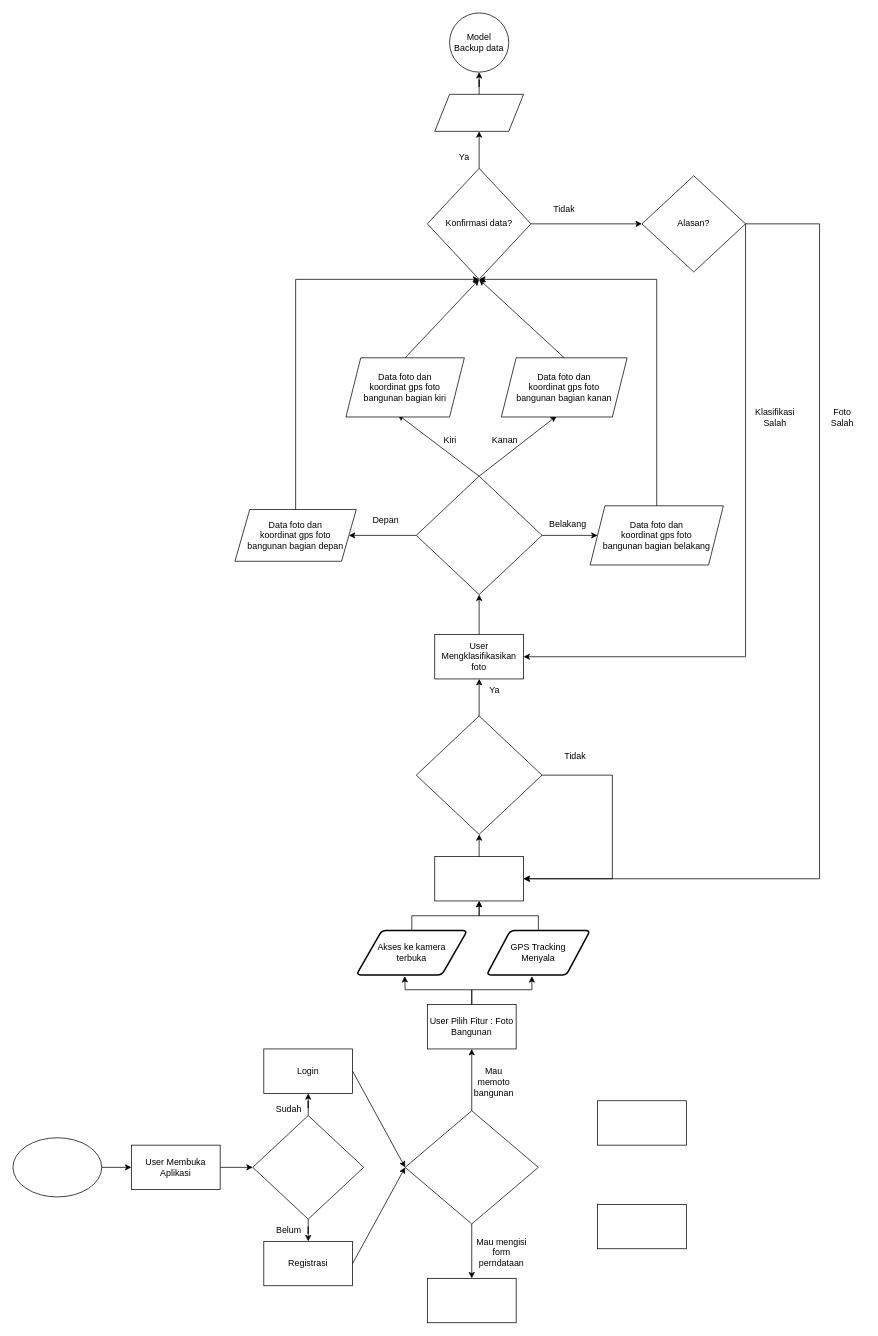
The diagram is 878 pixels wide and 1336 high, and some of its shapes have lost their labels. The centre of each missing label's shape, as x and y in pixels:
"Foto Cocok?" belongs at (479,774).
"hasil klasifikasi user" belongs at (479,535).
"Pemilihan fitur" belongs at (471,1167).
"Simpan data ke SQLite" belongs at (479,112).
"Start" belongs at (57,1167).
"Sudah Registrasi" belongs at (308,1167).
"User Mengambil Foto" belongs at (479,878).
